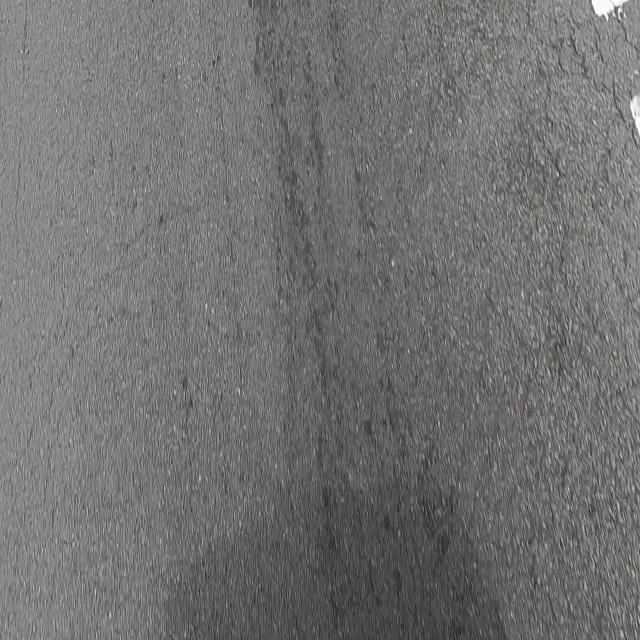Retak-Buaya: (397, 0, 639, 235)
